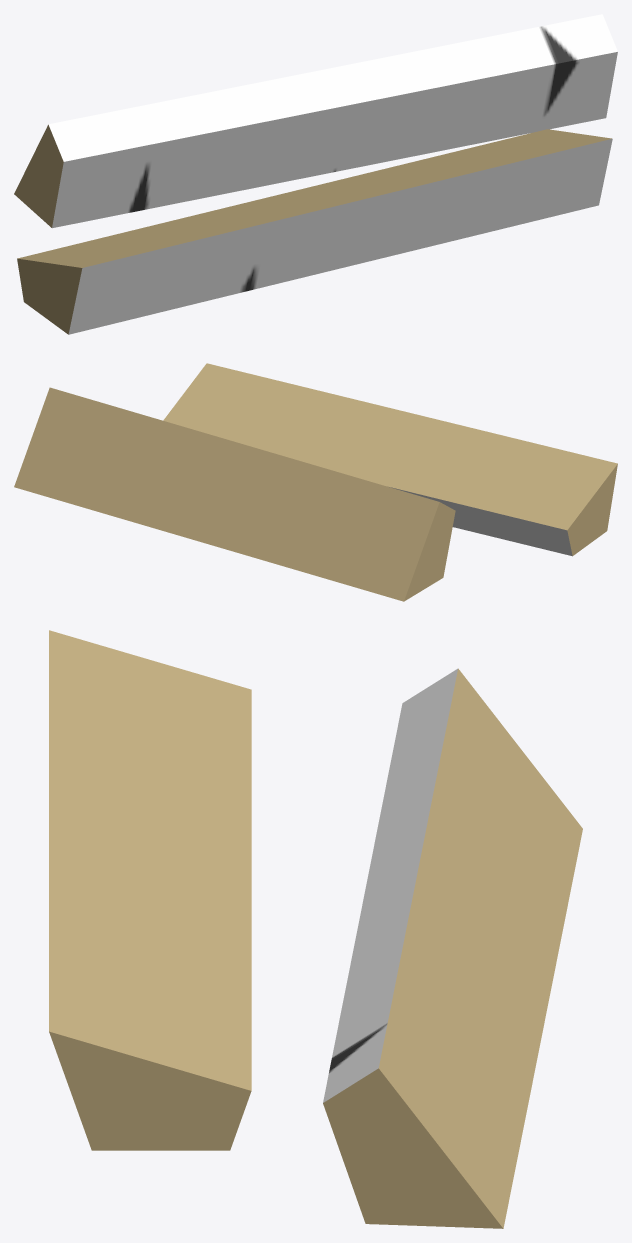
The model's file is Birch_Firewood_06_LOD.fbx.
The picture shows the model from 3 angles, top to bottom: view 1: azimuth 30°, elevation 25°; view 2: azimuth 150°, elevation 25°; view 3: azimuth 270°, elevation 25°; orthographic projection. The views are drawn at different scales.
Parts seen in each view (by area): view 1: Birch_Firewood_06_LOD0; view 2: Birch_Firewood_06_LOD0; view 3: Birch_Firewood_06_LOD0.
Boxes of the visible parts, box(x1,y1,x2,y2) form: Birch_Firewood_06_LOD0: box(14, 14, 617, 334); Birch_Firewood_06_LOD0: box(14, 363, 617, 601); Birch_Firewood_06_LOD0: box(49, 630, 582, 1228).
Size of what is drawn, in the model's own units: 66.77 by 10.16 by 31.49.
